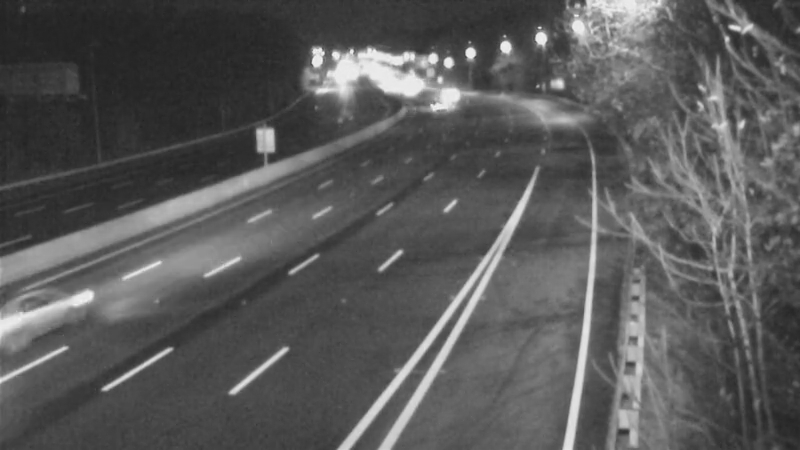vehicle: (1, 261, 94, 371), (432, 68, 482, 118), (415, 81, 465, 131)
